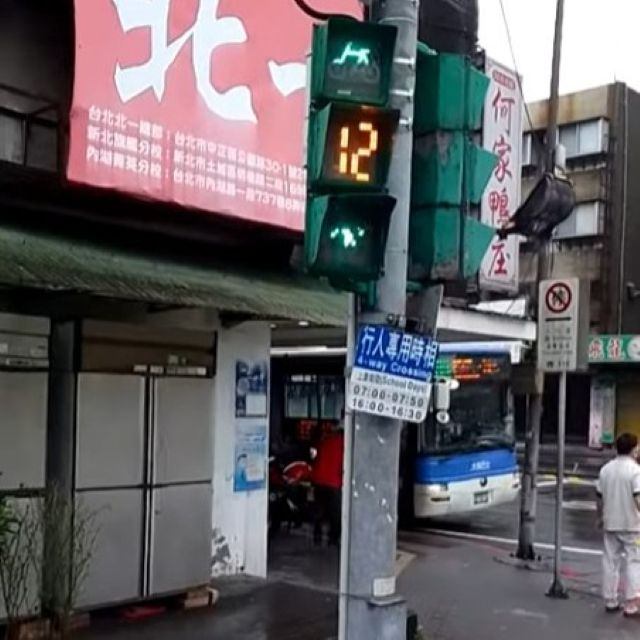green_light: (313, 22, 391, 277)
